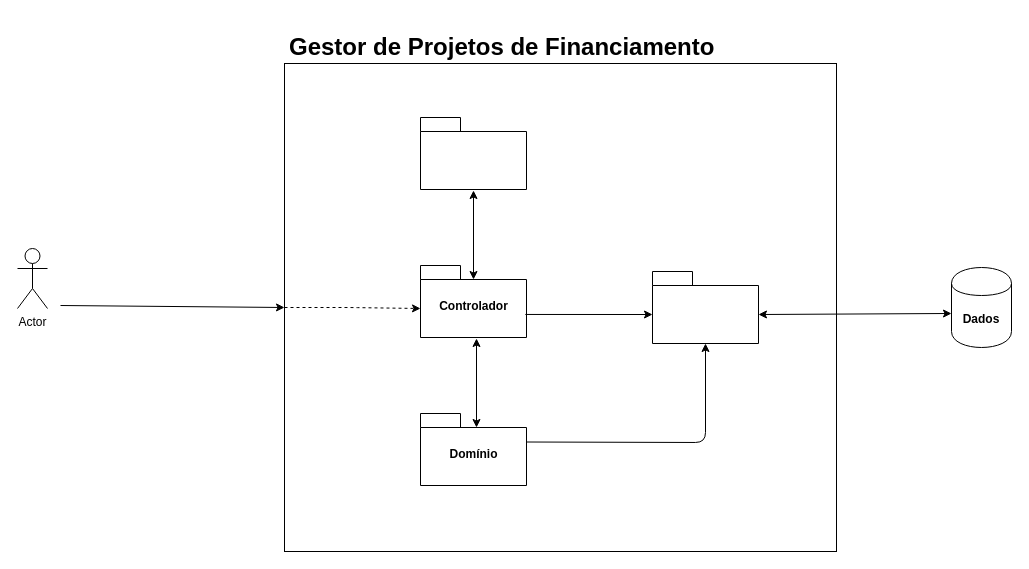
Image size: 1029x569. Some labels were removed from this diagram. The box of each missing label's shape, as (x1, y1, x2, y2) in pixels:
Seviços: (652, 270, 758, 344)
Vista: (420, 116, 526, 190)
